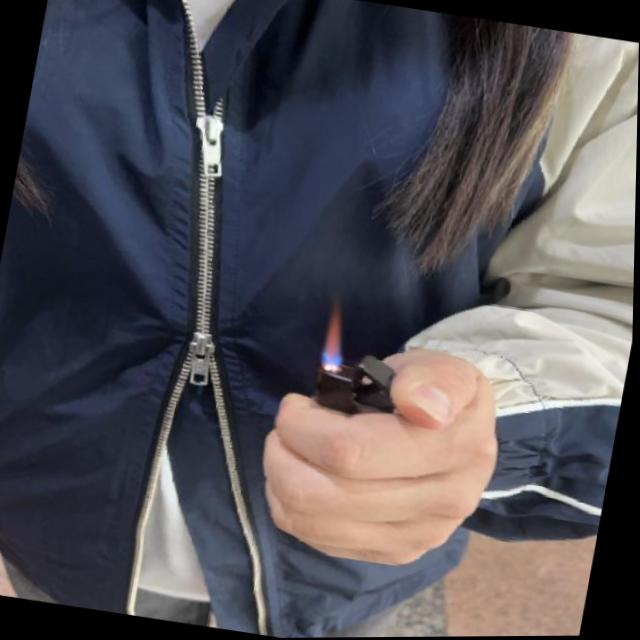Fire: (321, 302, 354, 375)
